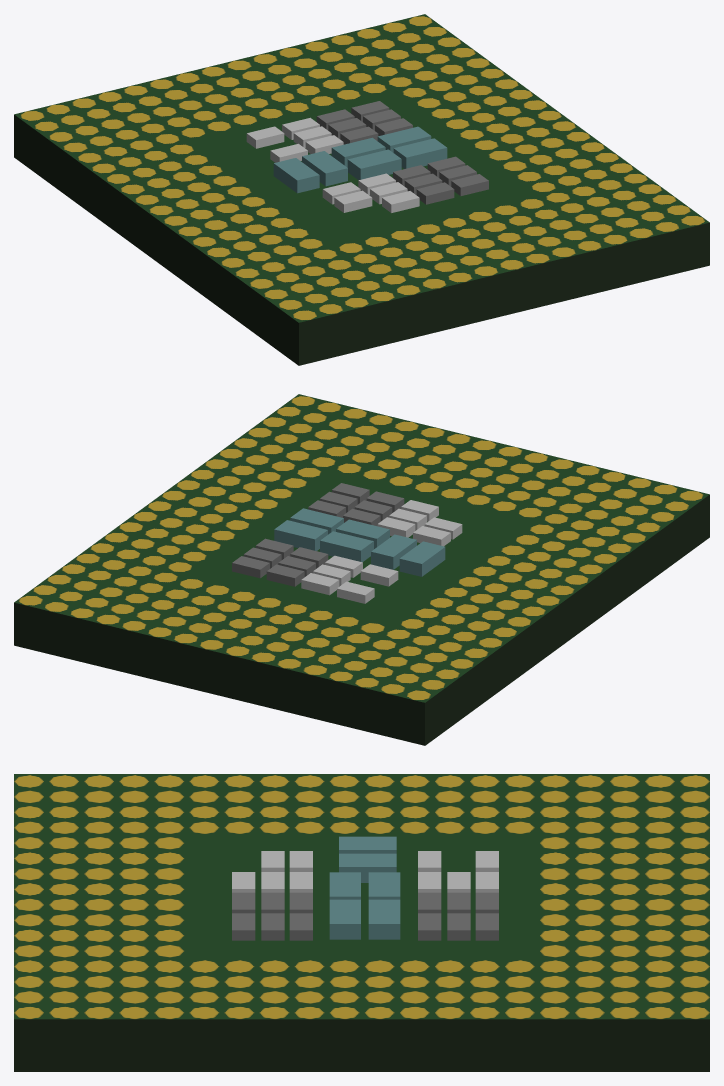
Rendered from Analyzer_Chip.fbx.
The picture shows the model from 3 angles, top to bottom: view 1: azimuth 30°, elevation 25°; view 2: azimuth 150°, elevation 25°; view 3: azimuth 270°, elevation 25°; orthographic projection. The views are drawn at different scales.
Parts seen in each view (by area): view 1: pCube1, pCube4, pCube7, pCube3, pCube6, pCube5, pCube2, pCube8.003, pCube10.007, pCube10.005, pCube10.006, pCube10.004; view 2: pCube1, pCube5, pCube7, pCube2, pCube6, pCube4, pCube3, pCube10.003, pCube8.002, pCube8.001, pCube8.003, pCube8 (+1 smaller); view 3: pCube1, pCube2, pCube3, pCube6, pCube7, pCube5, pCube4, pCube8, pCube9, pCube10, pCube8.004, pCube9.003 (+17 smaller).
Part boxes in pixels (x1,y1,x2,y2): pCube1: [14, 14, 709, 365]; pCube4: [347, 149, 401, 180]; pCube7: [273, 158, 319, 193]; pCube3: [393, 138, 447, 168]; pCube6: [302, 151, 347, 186]; pCube5: [331, 137, 385, 167]; pCube2: [377, 126, 431, 152]; pCube8.003: [246, 126, 284, 148]; pCube10.007: [334, 190, 372, 212]; pCube10.005: [416, 182, 454, 204]; pCube10.006: [382, 191, 419, 212]; pCube10.004: [451, 174, 488, 195]; pCube1: [14, 394, 709, 745]; pCube5: [320, 531, 373, 562]; pCube7: [399, 541, 445, 576]; pCube2: [274, 520, 327, 550]; pCube6: [371, 534, 416, 569]; pCube4: [336, 519, 389, 548]; pCube3: [290, 508, 343, 534]; pCube10.003: [360, 564, 398, 586]; pCube8.002: [301, 573, 339, 595]; pCube8.001: [266, 564, 304, 586]; pCube8.003: [337, 581, 374, 603]; pCube8: [232, 556, 269, 578]; pCube1: [14, 774, 709, 1071]; pCube2: [368, 899, 400, 939]; pCube3: [329, 899, 360, 939]; pCube6: [339, 853, 396, 882]; pCube7: [339, 836, 396, 853]; pCube5: [368, 872, 400, 899]; pCube4: [329, 872, 360, 899]; pCube8: [475, 913, 498, 940]; pCube9: [447, 913, 470, 940]; pCube10: [418, 913, 441, 940]; pCube8.004: [289, 913, 312, 940]; pCube9.003: [261, 913, 284, 940].
Size of the model in its own units: 5 by 0.65 by 6.
